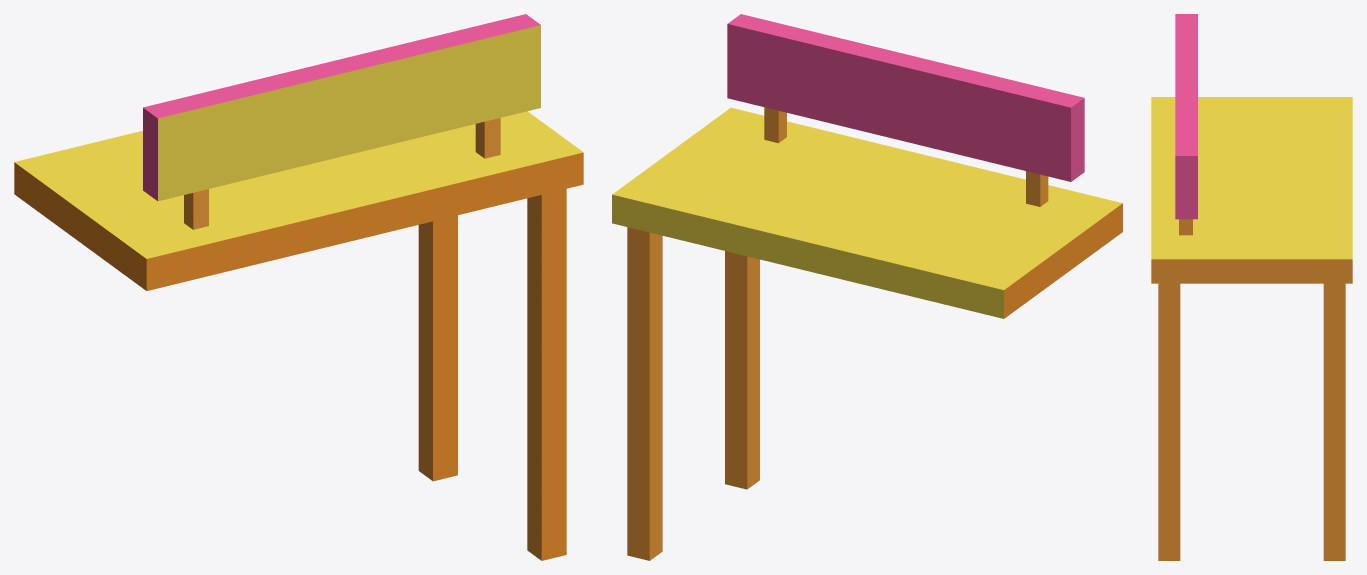
The model's file is Drive_Prop.fbx.
3 renders of one model, left to right at view 1: azimuth 30°, elevation 25°; view 2: azimuth 150°, elevation 25°; view 3: azimuth 270°, elevation 25°, orthographic. The views are drawn at different scales.
Visible parts, largest first — view 1: Drive_Prop; view 2: Drive_Prop; view 3: Drive_Prop.
Boxes of the visible parts, bbox=[...] form: Drive_Prop: bbox=[14, 14, 583, 560]; Drive_Prop: bbox=[612, 14, 1122, 560]; Drive_Prop: bbox=[1151, 14, 1352, 560].
Bounding box in the file's own units: 131 × 151 × 68.99.
